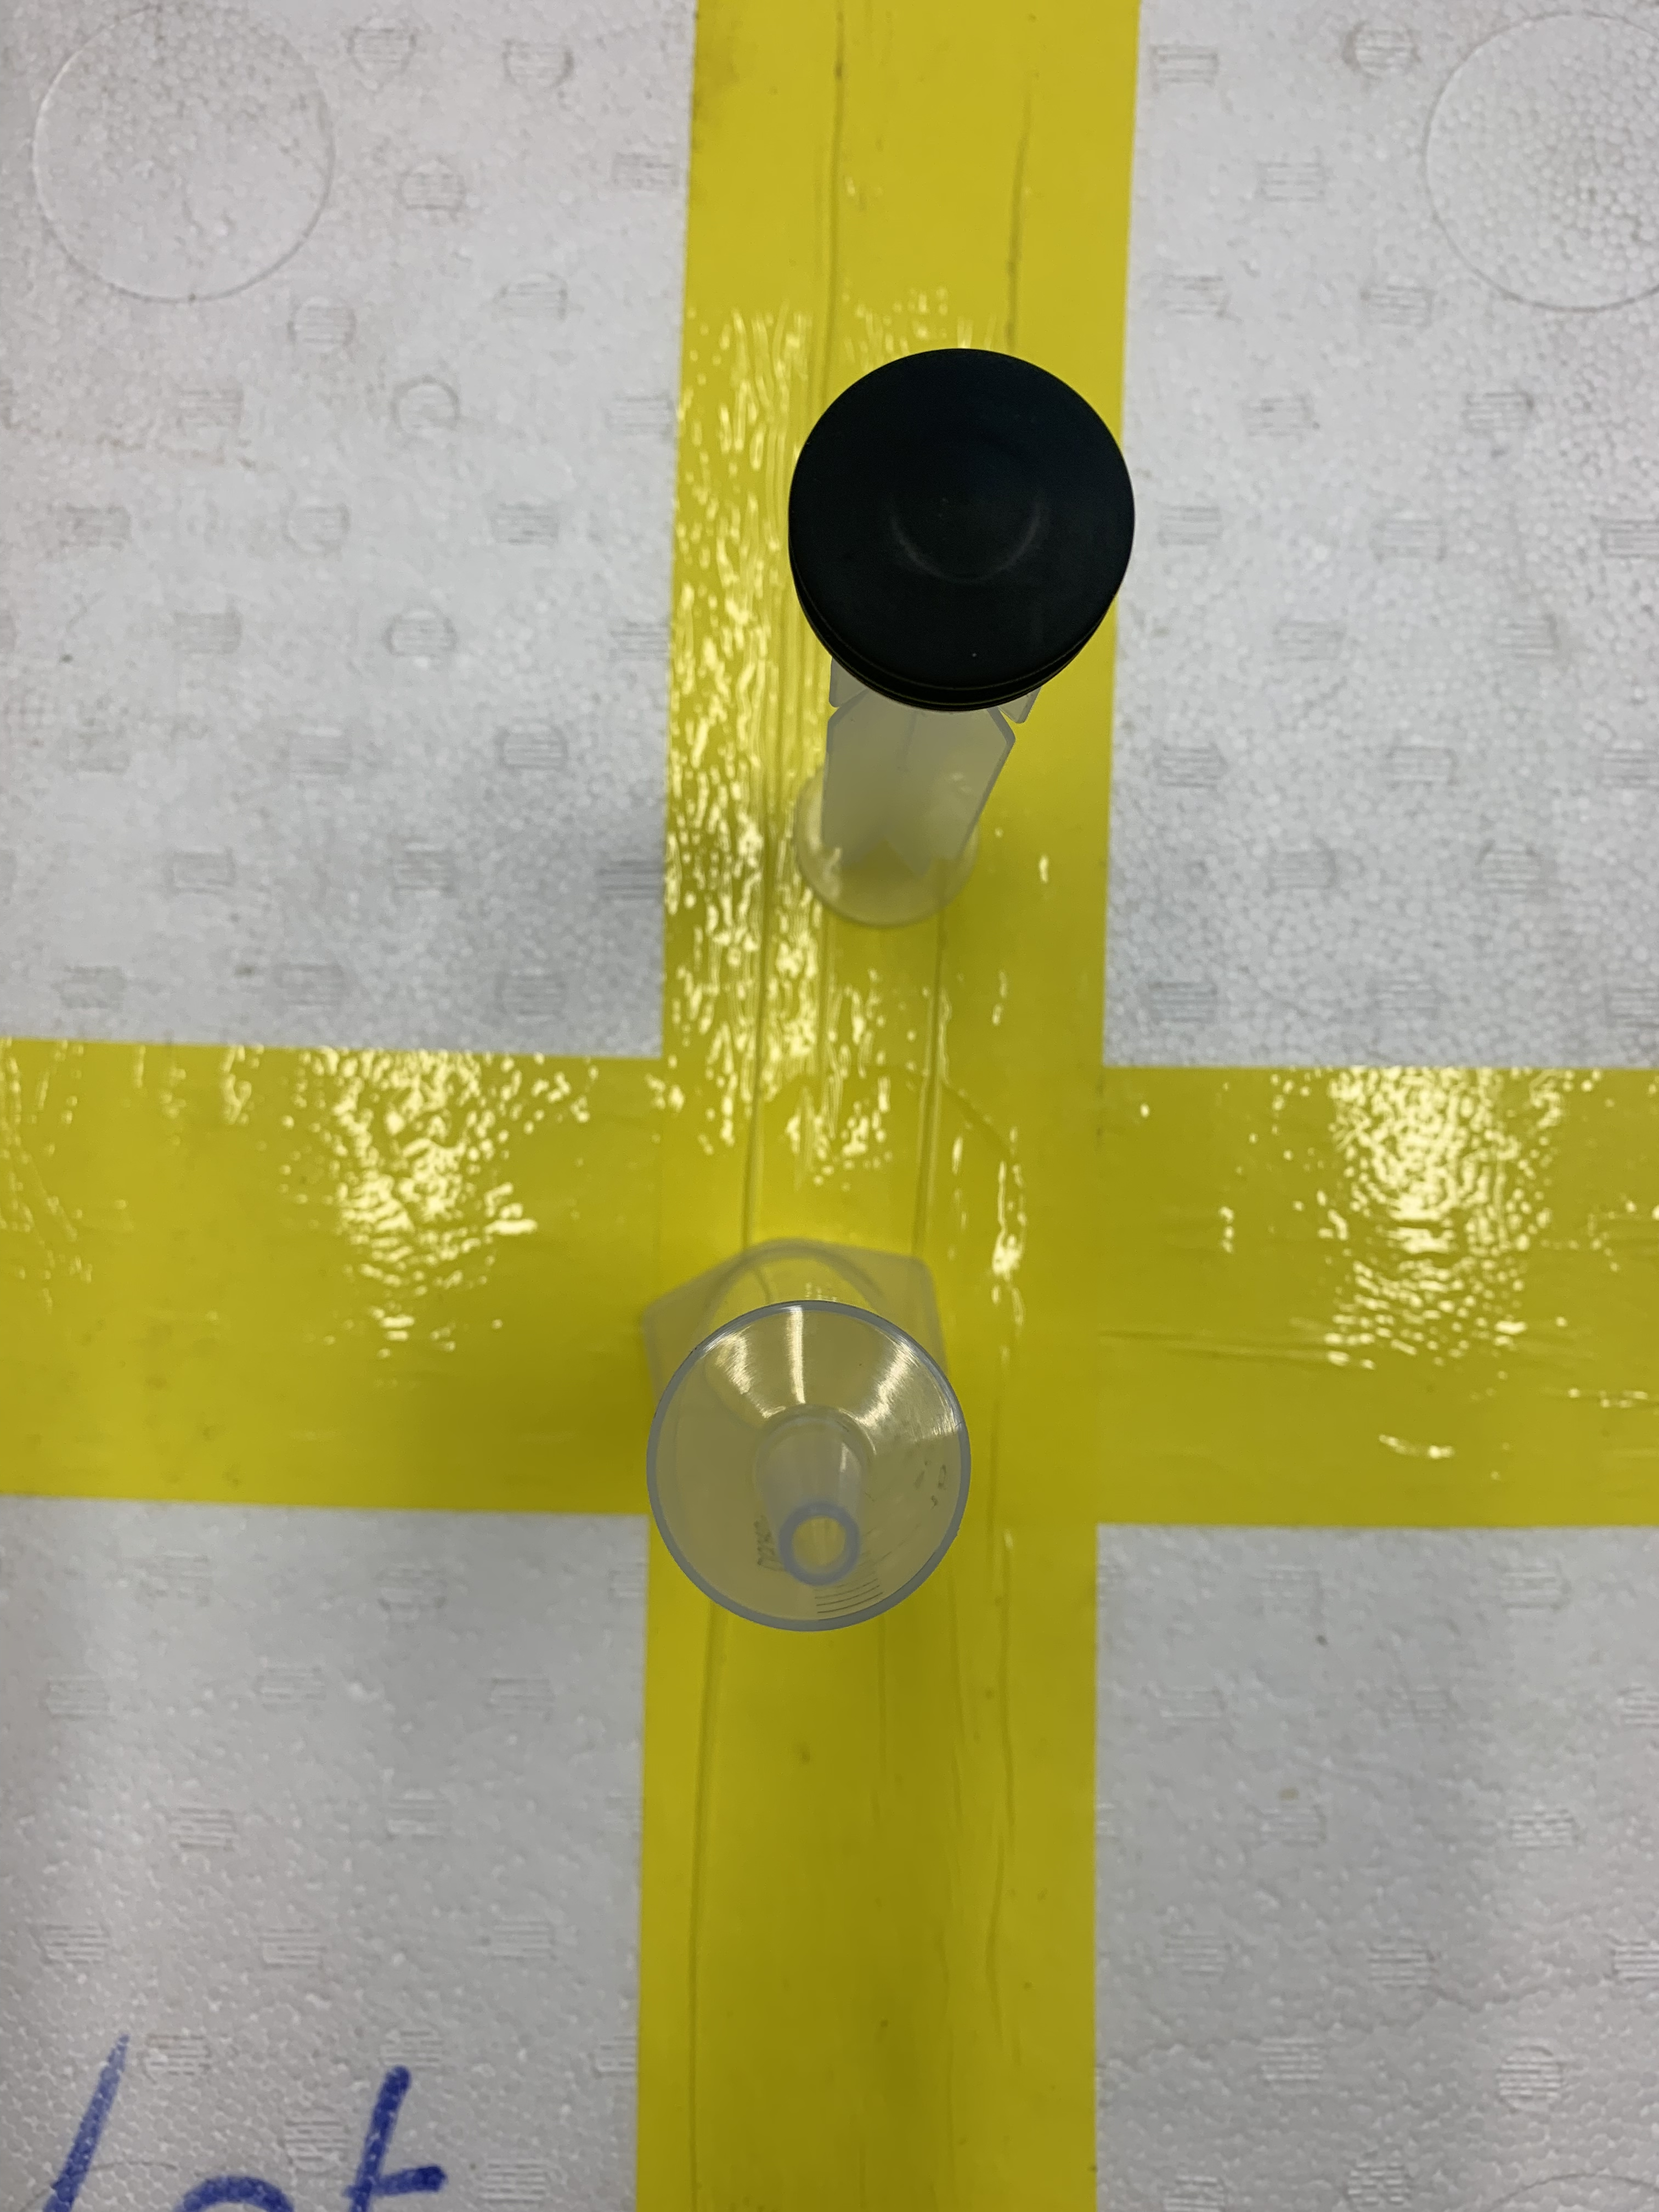plunger: (782, 348, 1148, 942)
syringe: (640, 1237, 976, 1642)
